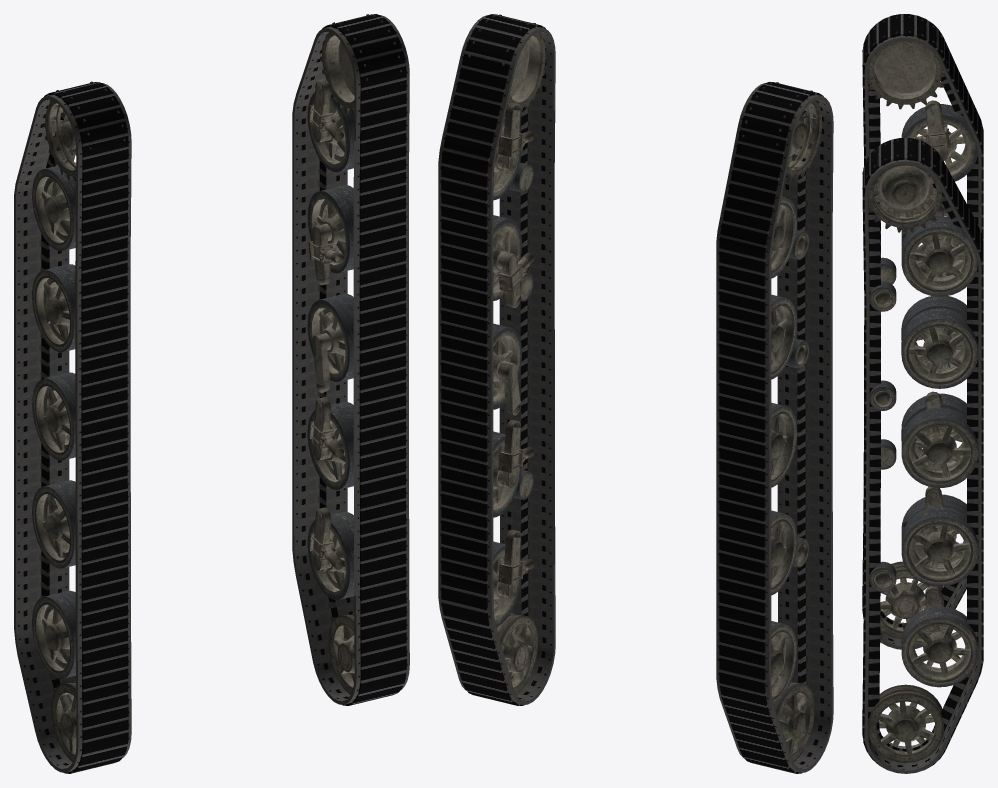
The model's file is Chassis.glb.
3 renders of one model, left to right at view 1: azimuth 30°, elevation 25°; view 2: azimuth 150°, elevation 25°; view 3: azimuth 270°, elevation 25°, orthographic. The views are drawn at different scales.
Visible parts, largest first — view 1: set_1_group_0, set_0_group_0, set_3_group_0, set_2_group_0; view 2: set_1_group_0, set_0_group_0, set_3_group_0, set_2_group_0; view 3: set_3_group_0, set_0_group_0, set_2_group_0, set_1_group_0.
Part boxes in pixels (x1,y1,x2,y2): set_1_group_0: [14, 82, 131, 773]; set_0_group_0: [292, 14, 409, 705]; set_3_group_0: [307, 14, 401, 694]; set_2_group_0: [32, 81, 125, 761]; set_1_group_0: [716, 81, 833, 773]; set_0_group_0: [438, 14, 555, 706]; set_3_group_0: [468, 14, 545, 694]; set_2_group_0: [742, 82, 822, 761]; set_3_group_0: [862, 139, 978, 762]; set_0_group_0: [862, 138, 983, 773]; set_2_group_0: [862, 16, 978, 638]; set_1_group_0: [862, 14, 983, 649].
Bounding box in the file's own units: 2.86 × 5.57 × 0.995.
4 materials, 4 textured.
